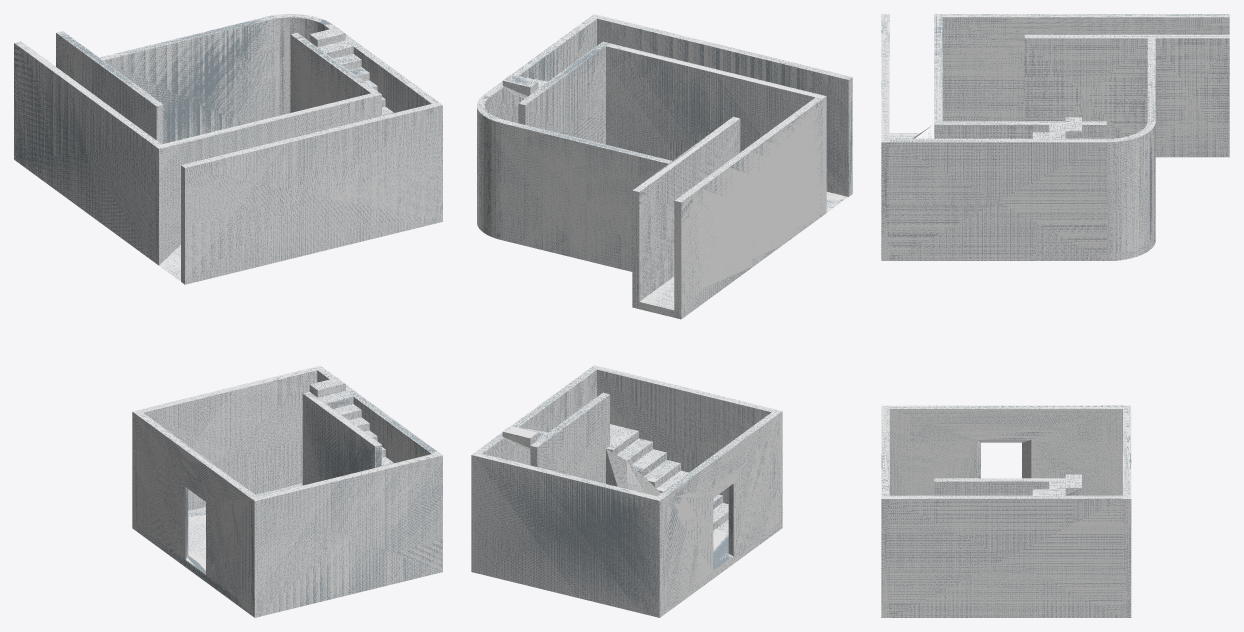
File: dungeon_export.fbx
The picture shows the model from 3 angles, left to right: view 1: azimuth 30°, elevation 25°; view 2: azimuth 150°, elevation 25°; view 3: azimuth 270°, elevation 25°; orthographic projection.
Parts seen in each view (by area): view 1: Group10, Group8, Group6, Group9, Group4, Group1; view 2: Group10, Group8, Group6, Group5, Group3, Group4, Group7, Group9, Group1; view 3: Group8, Group10, Group6, Group9, Group1.
Boxes of the visible parts, x1=… form: Group10: x1=132, y1=365, x2=442, y2=617; Group8: x1=56, y1=14, x2=442, y2=284; Group6: x1=14, y1=32, x2=381, y2=265; Group9: x1=159, y1=27, x2=393, y2=281; Group4: x1=136, y1=483, x2=302, y2=614; Group1: x1=309, y1=377, x2=393, y2=466; Group10: x1=471, y1=365, x2=782, y2=617; Group8: x1=477, y1=14, x2=852, y2=308; Group6: x1=518, y1=41, x2=826, y2=319; Group5: x1=610, y1=427, x2=728, y2=532; Group3: x1=606, y1=445, x2=728, y2=535; Group4: x1=664, y1=524, x2=778, y2=614; Group7: x1=477, y1=217, x2=674, y2=317; Group9: x1=502, y1=74, x2=847, y2=212; Group1: x1=502, y1=425, x2=547, y2=451; Group8: x1=881, y1=14, x2=1229, y2=260; Group10: x1=881, y1=405, x2=1131, y2=617; Group6: x1=934, y1=14, x2=1229, y2=138; Group9: x1=889, y1=117, x2=1081, y2=138; Group1: x1=1032, y1=474, x2=1081, y2=495.
Bounding box in the file's own units: 740 × 1300 × 849.
